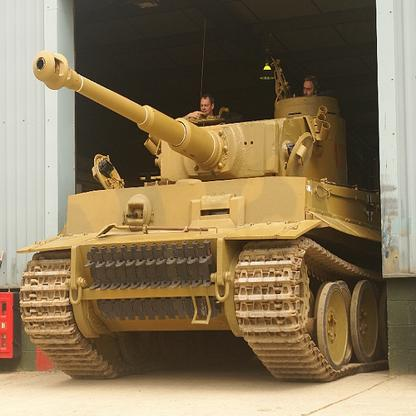Tank: (15, 41, 392, 380)
